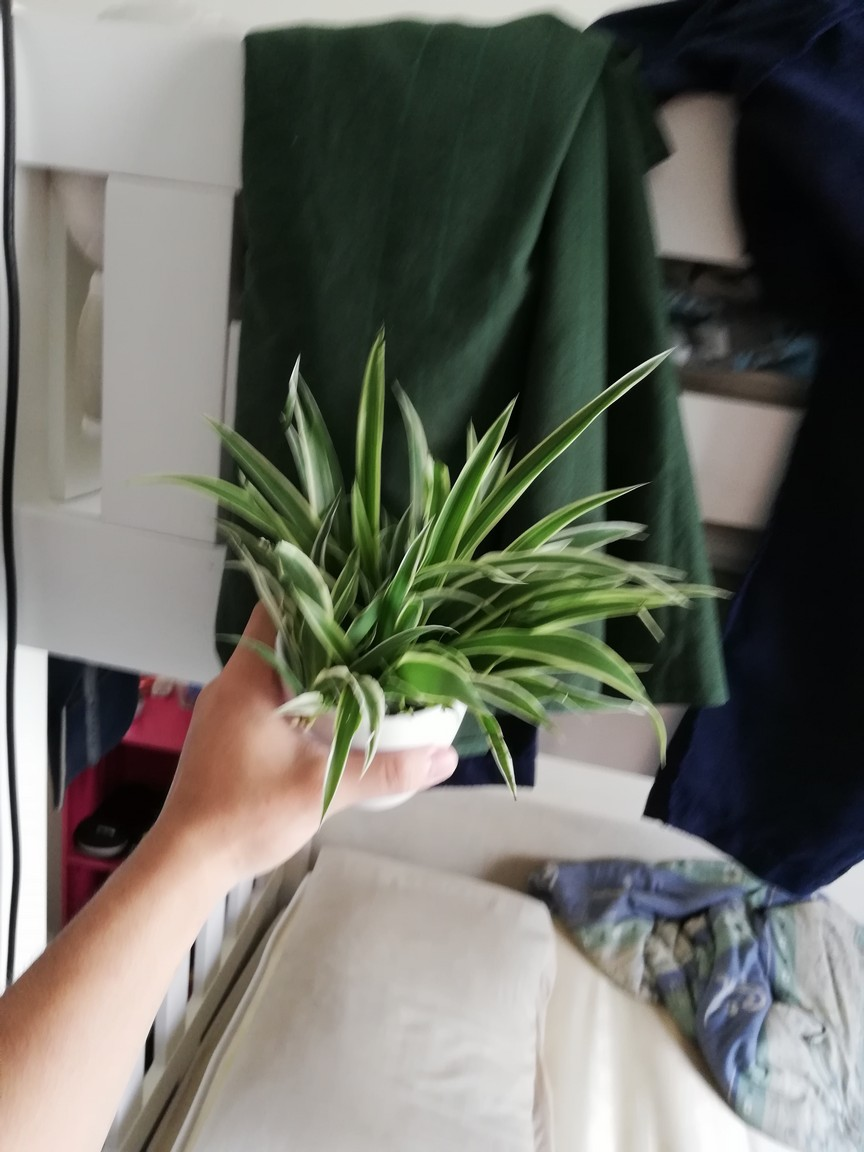daun: (523, 339, 682, 479), (391, 375, 436, 503), (356, 318, 387, 478), (555, 479, 659, 522), (199, 407, 272, 466), (478, 716, 518, 806), (125, 467, 236, 498), (318, 693, 341, 837), (393, 514, 437, 588), (312, 486, 346, 557), (573, 522, 656, 549), (356, 690, 379, 786), (487, 391, 520, 436), (462, 415, 482, 457)
